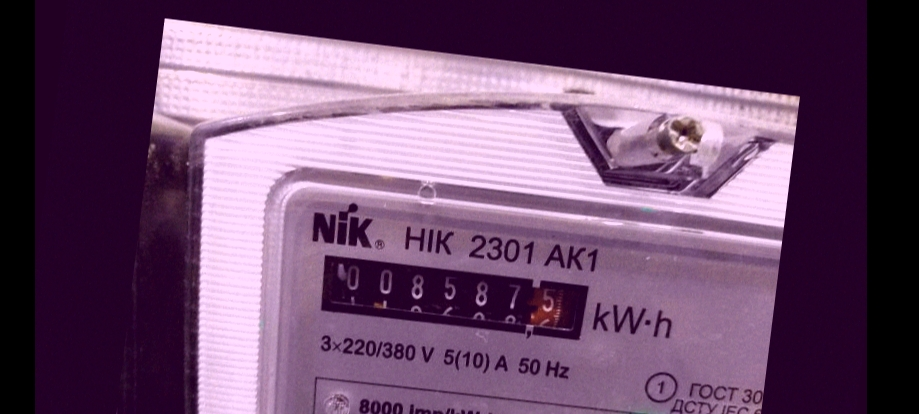0: (341, 261, 361, 292), (375, 266, 395, 296)
5: (438, 273, 459, 303), (538, 285, 558, 316)
7: (502, 280, 522, 312)
8: (470, 277, 491, 309), (406, 271, 426, 301)
screen: (297, 236, 607, 356)
